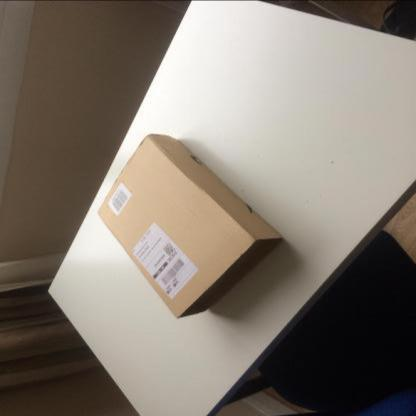Carton: (97, 133, 284, 318)
